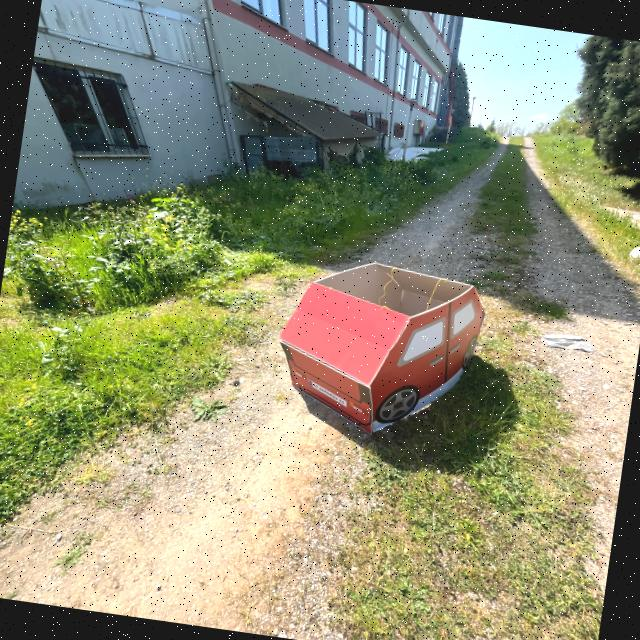red_car: (258, 241, 513, 466)
